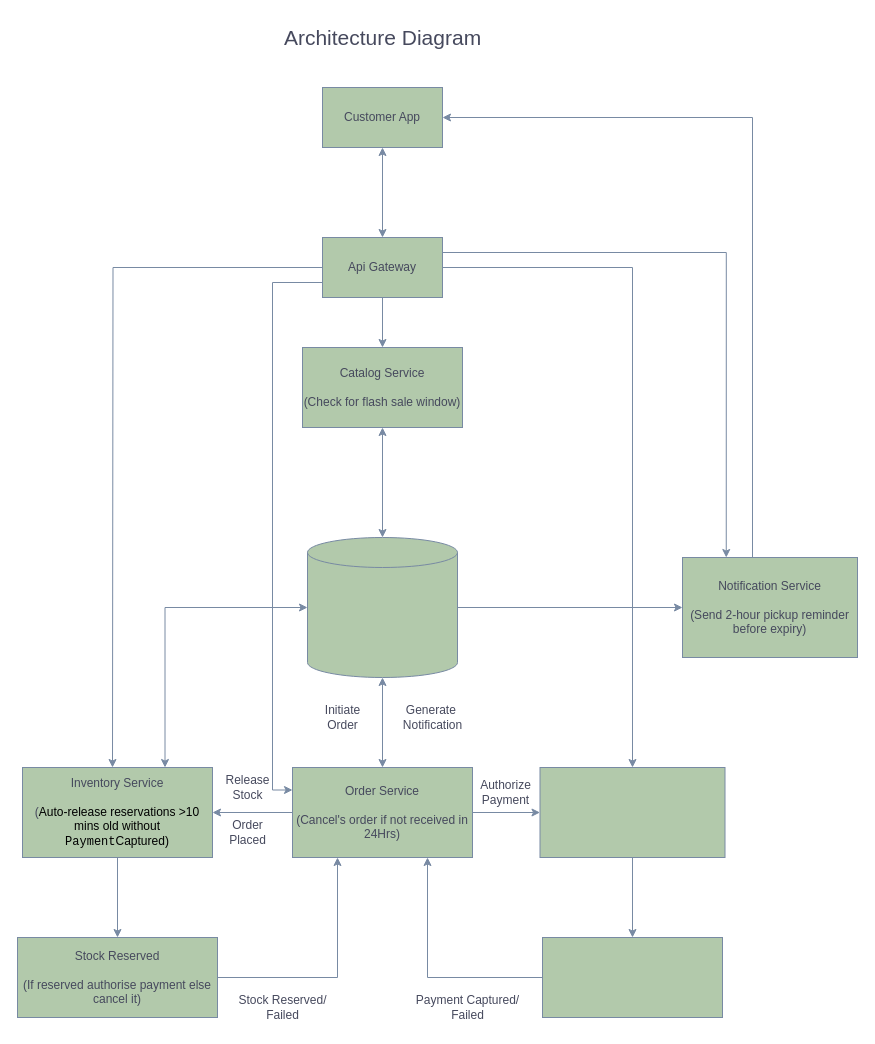
This 875x1044 diagram has some shape labels left out. Each missing label, with the centre of its shape:
Message Broker: pixel 382 607
Payment Captured (If captured finalize order else cancel): pixel 632 977
Payment Service: pixel 632 812
